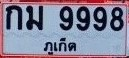txt01: (4, 5, 23, 31)
txt28: (24, 5, 45, 31)
